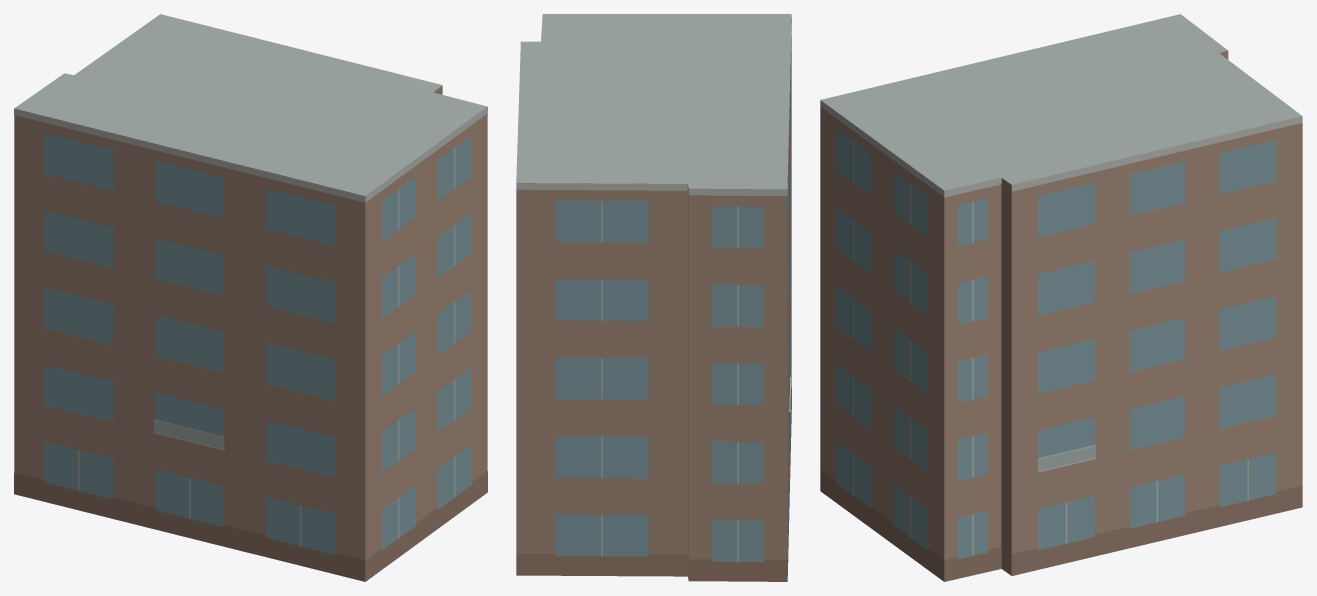
The model's file is survey-upis-32722781.glb.
3 views of the same model, side by side, from view 1: azimuth 30°, elevation 25°; view 2: azimuth 150°, elevation 25°; view 3: azimuth 270°, elevation 25° (orthographic).
Parts seen in each view (by area): view 1: survey-upis-32722781.tmp; view 2: survey-upis-32722781.tmp; view 3: survey-upis-32722781.tmp.
Boxes of the visible parts, bbox=[...] form: survey-upis-32722781.tmp: bbox=[14, 14, 487, 581]; survey-upis-32722781.tmp: bbox=[516, 14, 791, 581]; survey-upis-32722781.tmp: bbox=[820, 14, 1302, 581].
Size of the model in its own units: 13.82 by 14.25 by 15.94.
